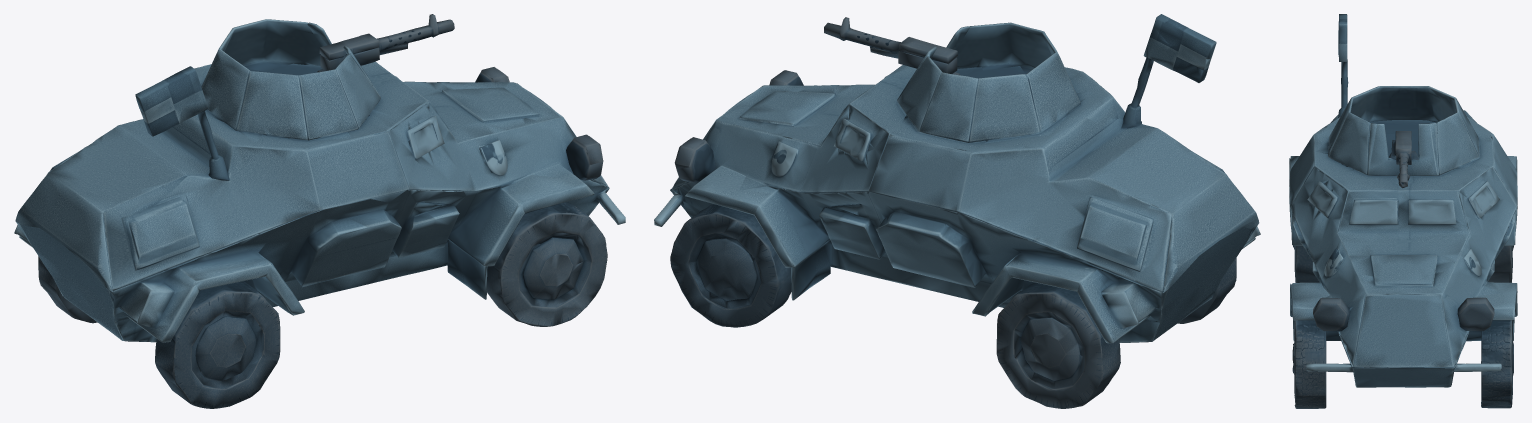
File: ScoutCar.fbx
3 renders of one model, left to right at view 1: azimuth 30°, elevation 25°; view 2: azimuth 150°, elevation 25°; view 3: azimuth 270°, elevation 25°, orthographic. The views are drawn at different scales.
Visible parts, largest first — view 1: tripo_part_1, tripo_part_0, tripo_part_5, tripo_part_10, tripo_part_3, tripo_part_6, tripo_part_9, tripo_part_7, tripo_part_11, tripo_part_2; view 2: tripo_part_1, tripo_part_0, tripo_part_5, tripo_part_2, tripo_part_4, tripo_part_6, tripo_part_9, tripo_part_7, tripo_part_8, tripo_part_10; view 3: tripo_part_1, tripo_part_5, tripo_part_0, tripo_part_3, tripo_part_4, tripo_part_12, tripo_part_8, tripo_part_11, tripo_part_7, tripo_part_6, tripo_part_10, tripo_part_2.
Boxes of the visible parts, x1,y1,x2,y2 form: tripo_part_1: (15, 61, 607, 291); tripo_part_0: (14, 172, 625, 342); tripo_part_5: (200, 19, 380, 142); tripo_part_10: (155, 281, 280, 408); tripo_part_3: (487, 202, 607, 326); tripo_part_6: (135, 66, 229, 180); tripo_part_9: (21, 225, 151, 342); tripo_part_7: (317, 14, 454, 72); tripo_part_11: (566, 134, 603, 180); tripo_part_2: (38, 256, 97, 323); tripo_part_1: (672, 65, 1259, 292); tripo_part_0: (654, 165, 1260, 343); tripo_part_5: (897, 22, 1095, 143); tripo_part_2: (996, 282, 1120, 408); tripo_part_4: (670, 204, 791, 327); tripo_part_6: (1121, 14, 1216, 128); tripo_part_9: (1122, 227, 1255, 342); tripo_part_7: (824, 17, 959, 75); tripo_part_8: (674, 137, 715, 182); tripo_part_10: (1177, 258, 1236, 323); tripo_part_1: (1289, 110, 1517, 368); tripo_part_5: (1316, 86, 1479, 175); tripo_part_0: (1289, 156, 1517, 387); tripo_part_3: (1292, 320, 1326, 408); tripo_part_4: (1481, 320, 1513, 408); tripo_part_12: (1353, 367, 1455, 387); tripo_part_8: (1457, 297, 1494, 331); tripo_part_11: (1313, 297, 1349, 331); tripo_part_7: (1389, 131, 1418, 188); tripo_part_6: (1338, 14, 1348, 117); tripo_part_10: (1293, 245, 1319, 282); tripo_part_2: (1488, 246, 1513, 282).
Bounding box in the file's own units: 0.7206 × 1.5 × 0.8795.
Materials: 15 (15 with a texture image).
